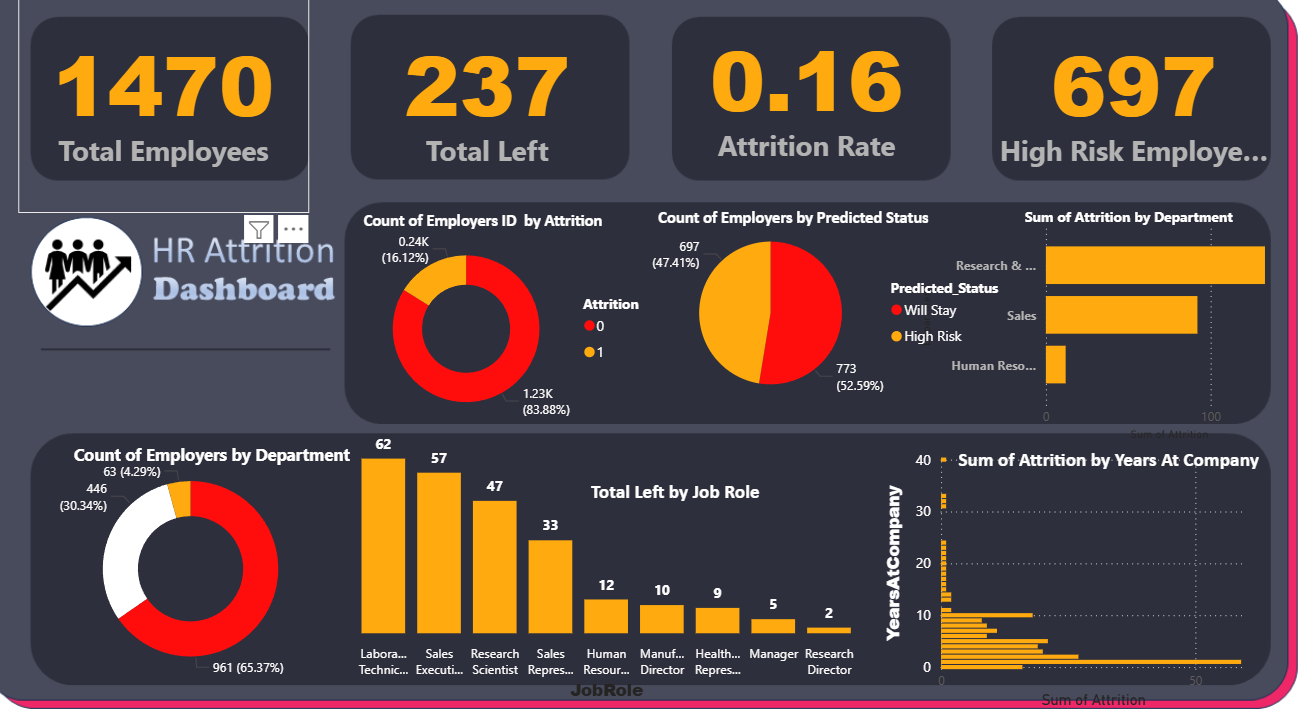

What the dashboard file says about the page in this screenshot:
{"tool":"powerbi","page":{"name":"Page 1","canvas":[1280,720],"ordinal":0},"visuals":[{"type":"card","fields":{"Values":["HR_Attrition_With_Predictions.Total Employees"]},"box":[35.4,0,280.5,223.2],"z":0},{"type":"card","fields":{"Values":["HR_Attrition_With_Predictions.Total Left"]},"box":[347.6,0,280.5,223.2],"z":1000},{"type":"card","fields":{"Values":["HR_Attrition_With_Predictions.Attrition Rate"]},"box":[656.1,0,279.3,212.2],"z":2000},{"type":"card","fields":{"Values":["HR_Attrition_With_Predictions.High Risk Employees"]},"box":[977.2,0,269,223.2],"z":3000},{"type":"clusteredBarChart","fields":{"Category":["HR_Attrition_With_Predictions.Department"],"Y":["Sum(HR_Attrition_With_Predictions.Attrition)"]},"box":[901.2,223.2,379.3,224.4],"z":4000},{"type":"clusteredColumnChart","fields":{"Category":["HR_Attrition_With_Predictions.JobRole"],"Y":["HR_Attrition_With_Predictions.Total Left"]},"box":[333.1,420.6,533.1,278.1],"z":5000},{"type":"clusteredBarChart","fields":{"Category":["HR_Attrition_With_Predictions.YearsAtCompany"],"Y":["Sum(HR_Attrition_With_Predictions.Attrition)"]},"box":[867.5,445.5,364.9,261],"z":6000},{"type":"donutChart","fields":{"Category":["HR_Attrition_With_Predictions.Attrition"],"Y":["CountNonNull(HR_Attrition_With_Predictions.EmployeeNumber)"]},"box":[350,213.4,306.1,242.7],"z":7000},{"type":"donutChart","fields":{"Category":["HR_Attrition_With_Predictions.Department"],"Y":["CountNonNull(HR_Attrition_With_Predictions.EmployeeNumber)"]},"box":[35.4,445.1,332.9,242.7],"z":8000},{"type":"pieChart","fields":{"Category":["HR_Attrition_With_Predictions.Predicted_Status"],"Y":["Count(HR_Attrition_With_Predictions.EmployeeNumber)"]},"box":[640.2,213.4,357.3,212.2],"z":9000},{"type":"textbox","box":[76.7,440,288.9,35.6],"z":10000},{"type":"textbox","box":[1001.2,212.2,279.3,34.1],"z":11000},{"type":"textbox","box":[640.2,212.2,278,51.2],"z":12000},{"type":"textbox","box":[363.4,215.9,279.3,30.5],"z":13000},{"type":"textbox","box":[583.1,475.3,196.1,32.5],"z":14000},{"type":"textbox","box":[937.7,445.5,329.9,39],"z":15000}]}

Visuals, with their boxes in screenshot pixels (x1, y1, x2, y2), scaled from the page's 1280x720 canvas onto the 1303x717 screenshot:
card - HR_Attrition_With_Predictions.Total Employees: (36, 0, 322, 222)
card - HR_Attrition_With_Predictions.Total Left: (354, 0, 639, 222)
card - HR_Attrition_With_Predictions.Attrition Rate: (668, 0, 952, 211)
card - HR_Attrition_With_Predictions.High Risk Employees: (995, 0, 1269, 222)
clusteredBarChart - HR_Attrition_With_Predictions.Department x Sum(HR_Attrition_With_Predictions.Attrition): (917, 222, 1302, 446)
clusteredColumnChart - HR_Attrition_With_Predictions.JobRole x HR_Attrition_With_Predictions.Total Left: (339, 419, 882, 696)
clusteredBarChart - HR_Attrition_With_Predictions.YearsAtCompany x Sum(HR_Attrition_With_Predictions.Attrition): (883, 444, 1255, 704)
donutChart - HR_Attrition_With_Predictions.Attrition x CountNonNull(HR_Attrition_With_Predictions.EmployeeNumber): (356, 213, 668, 454)
donutChart - HR_Attrition_With_Predictions.Department x CountNonNull(HR_Attrition_With_Predictions.EmployeeNumber): (36, 443, 375, 685)
pieChart - HR_Attrition_With_Predictions.Predicted_Status x Count(HR_Attrition_With_Predictions.EmployeeNumber): (652, 213, 1015, 424)
textbox: (78, 438, 372, 474)
textbox: (1019, 211, 1302, 245)
textbox: (652, 211, 935, 262)
textbox: (370, 215, 654, 245)
textbox: (594, 473, 793, 506)
textbox: (955, 444, 1290, 482)
